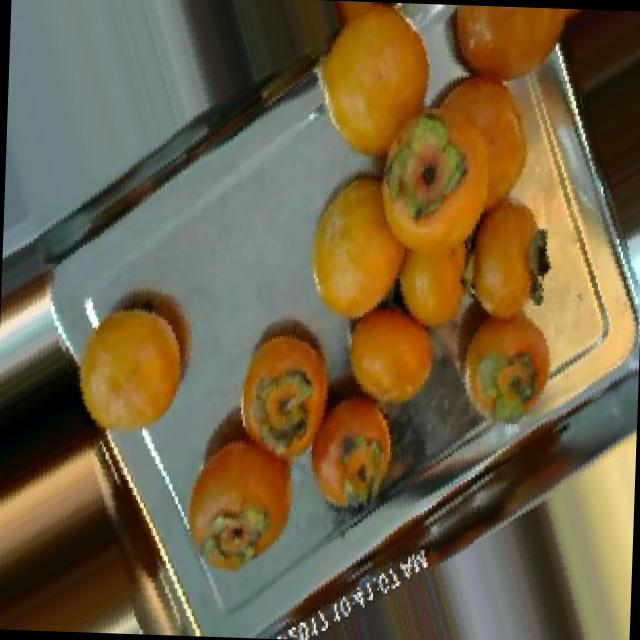Fruit: (160, 384, 322, 598), (53, 258, 222, 462), (288, 142, 437, 342), (295, 0, 457, 183), (288, 364, 424, 544), (326, 276, 452, 426)
